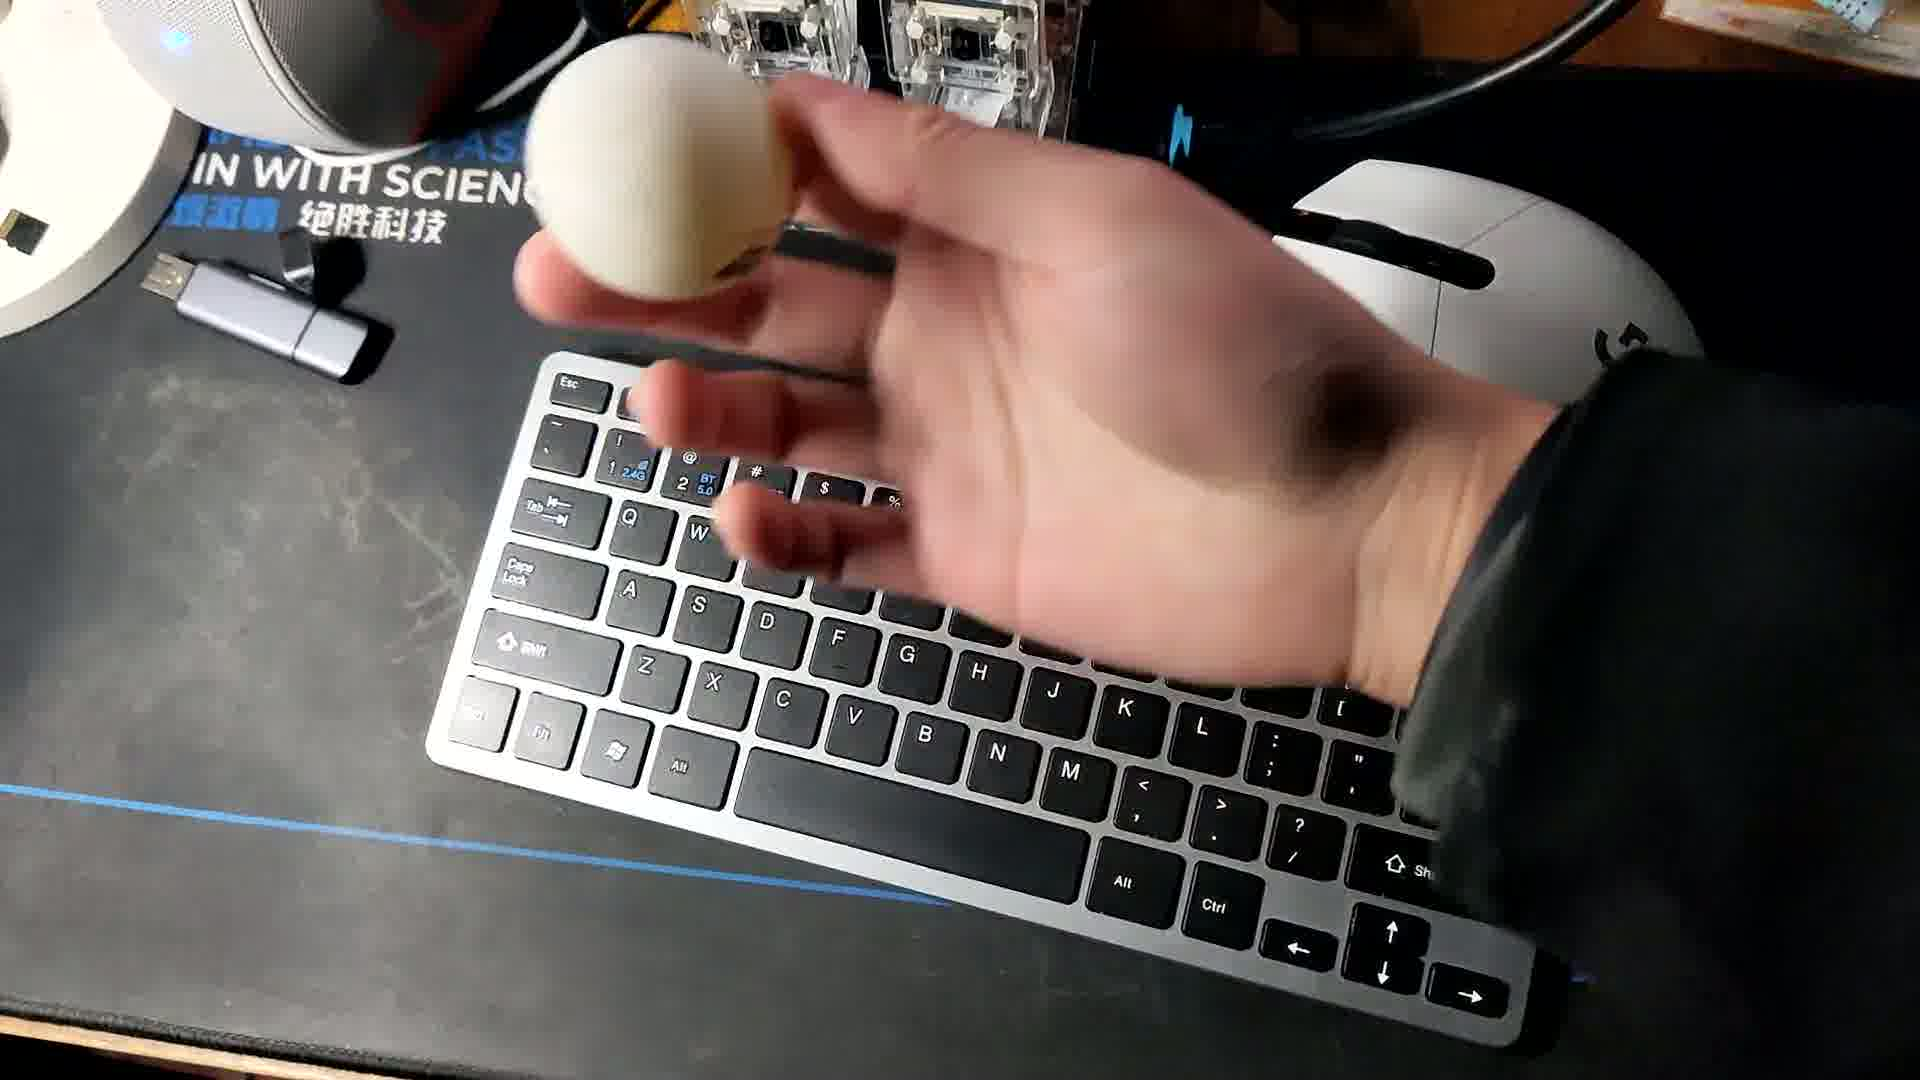Ball: (524, 38, 800, 309)
